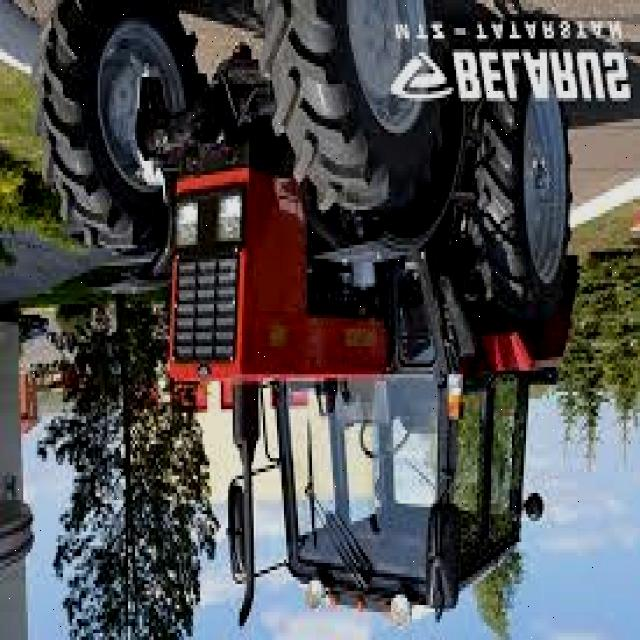Tratores - v5 YOLO V8L 2024-11-13: (36, 0, 579, 618)
